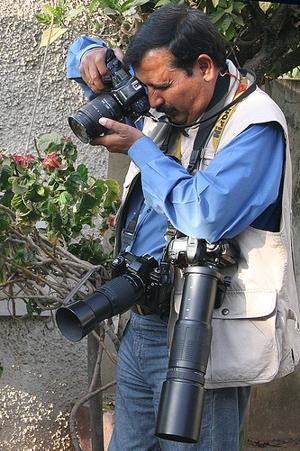person: (67, 8, 299, 449)
